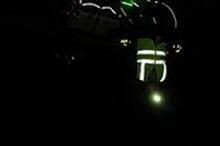Vest: (136, 38, 170, 87)
